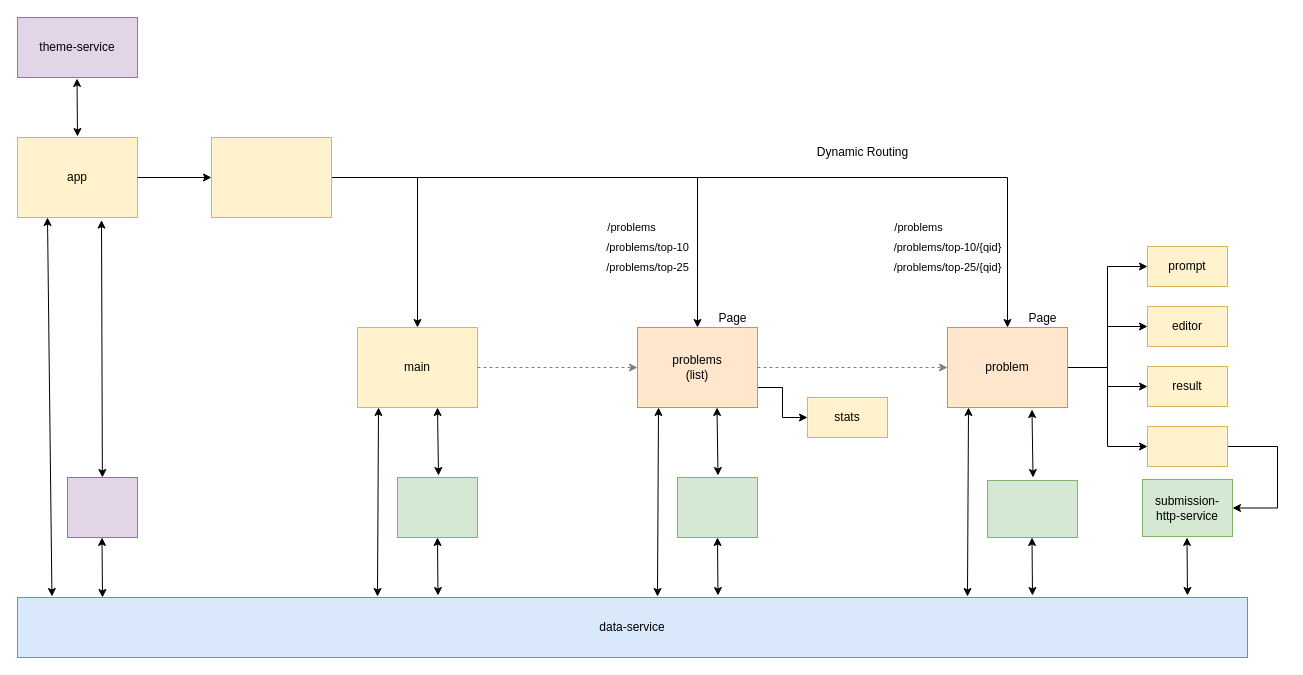
Some shapes in this 1303 by 675 pixel diagram are drawn without their labels. The box of each missing label's shape, as (x1, y1, x2, y2) in pixels:
app-routing: (210, 136, 332, 218)
application-http-service: (396, 476, 478, 538)
auth-service: (66, 476, 138, 538)
bookmark-http-service: (676, 476, 758, 538)
question-http-service: (986, 480, 1078, 538)
submissions: (1146, 426, 1228, 466)
